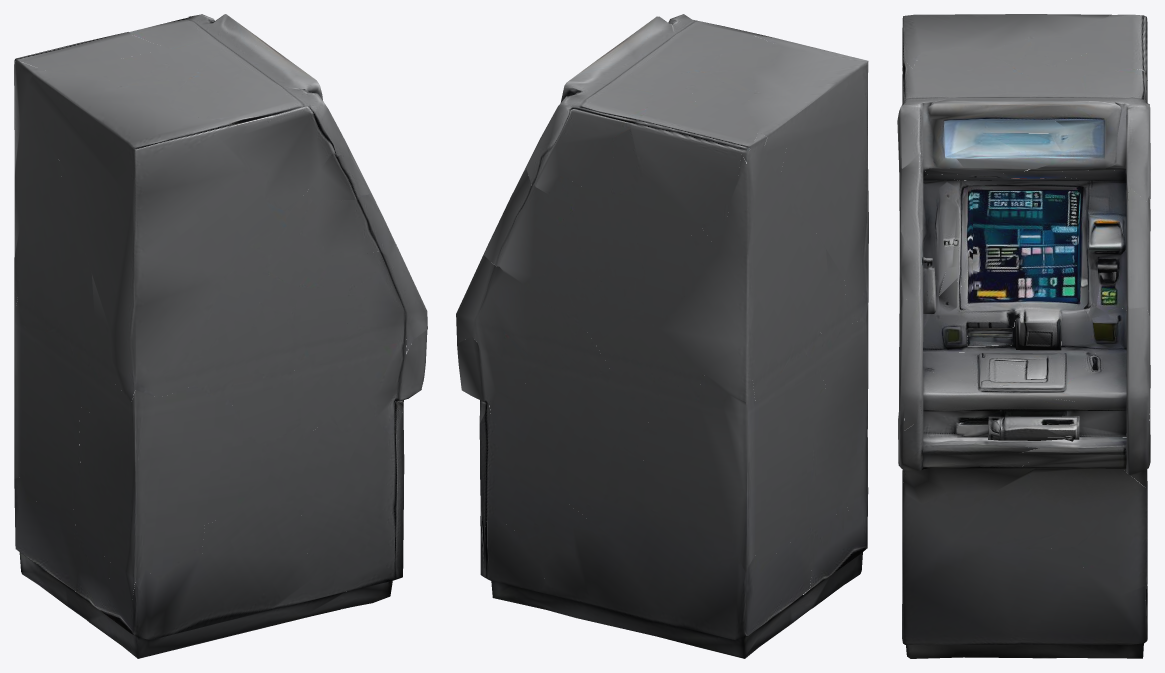
Rendered from atm.glb.
3 views of the same model, side by side, from view 1: azimuth 30°, elevation 25°; view 2: azimuth 150°, elevation 25°; view 3: azimuth 270°, elevation 25° (orthographic).
Visible parts, largest first — view 1: tripo_node_8a3816d4-15aa-45b6-822a-a78db08fd0bc; view 2: tripo_node_8a3816d4-15aa-45b6-822a-a78db08fd0bc; view 3: tripo_node_8a3816d4-15aa-45b6-822a-a78db08fd0bc.
Part boxes in pixels (x1,y1,x2,y2): tripo_node_8a3816d4-15aa-45b6-822a-a78db08fd0bc: [14, 14, 427, 658]; tripo_node_8a3816d4-15aa-45b6-822a-a78db08fd0bc: [456, 14, 868, 658]; tripo_node_8a3816d4-15aa-45b6-822a-a78db08fd0bc: [897, 14, 1150, 658].
Size of the model in its own units: 0.7105 by 1.2 by 0.5249.
Materials: 1 (1 with a texture image).
